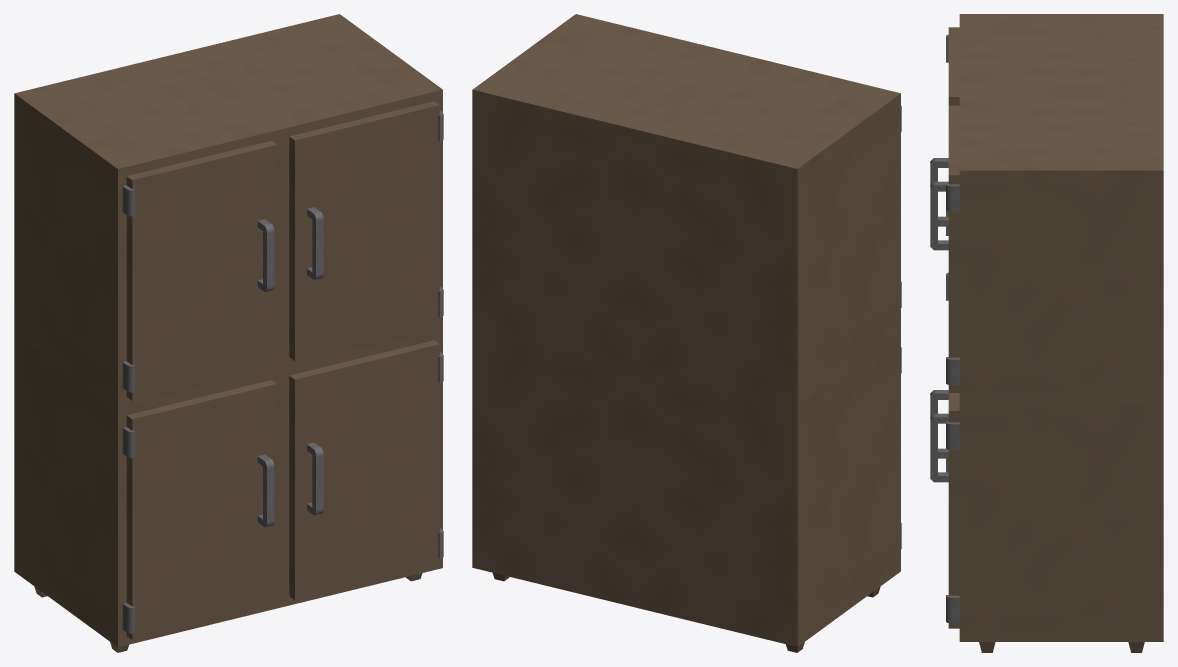
Rendered from ClosetLarge.fbx.
3 renders of one model, left to right at view 1: azimuth 30°, elevation 25°; view 2: azimuth 150°, elevation 25°; view 3: azimuth 270°, elevation 25°, orthographic.
Visible parts, largest first — view 1: Cube.072; view 2: Cube.072; view 3: Cube.072.
Boxes of the visible parts, <box> form: Cube.072: <box>14,14,443,652</box>; Cube.072: <box>472,14,901,652</box>; Cube.072: <box>930,14,1163,652</box>.
Size of the model in its own units: 215 by 312 by 135.
